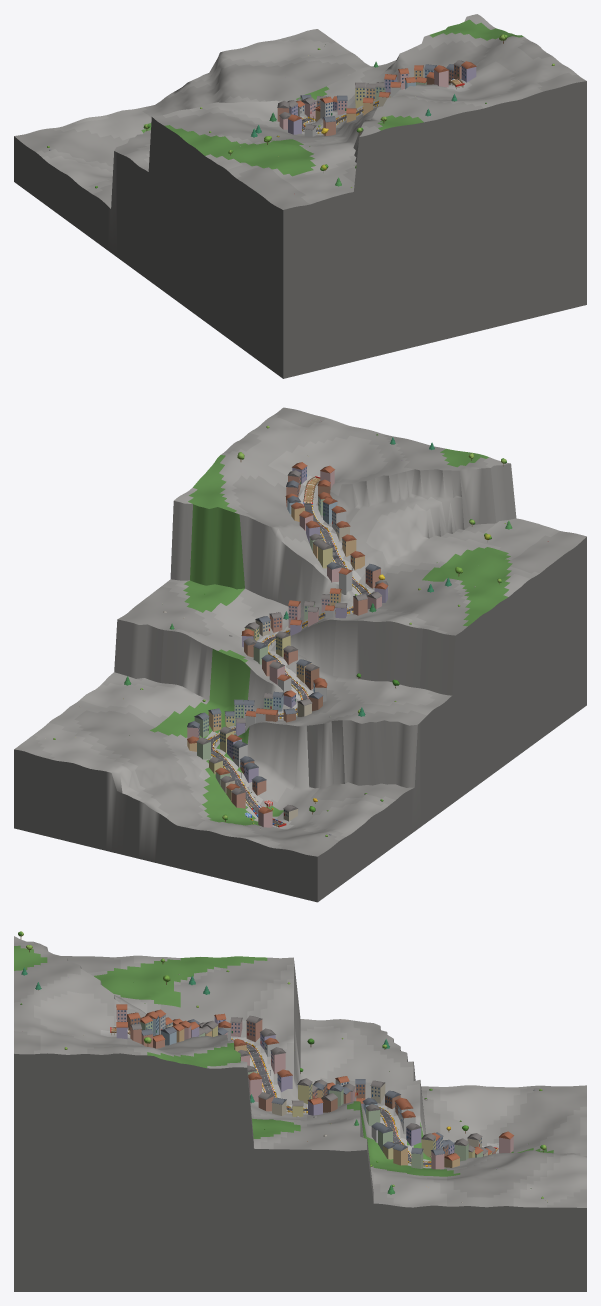
3 renders of one model, top to bottom at view 1: azimuth 30°, elevation 25°; view 2: azimuth 150°, elevation 25°; view 3: azimuth 270°, elevation 25°, orthographic. The views are drawn at different scales.
Parts seen in each view (by area): view 1: grass, buildings; view 2: grass, buildings, road, hay; view 3: grass, buildings, road, hay.
Boxes of the visible parts, x1,y1,x2,y2 form: grass: (14,14,586,378); buildings: (277,60,476,136); grass: (14,407,586,902); buildings: (187,462,388,827); road: (209,477,368,825); hay: (207,476,370,827); grass: (14,936,586,1291); buildings: (111,1004,513,1169); road: (111,1028,431,1165); hay: (110,1027,498,1166).
Size of the model in its own units: 280 by 205 by 430.
